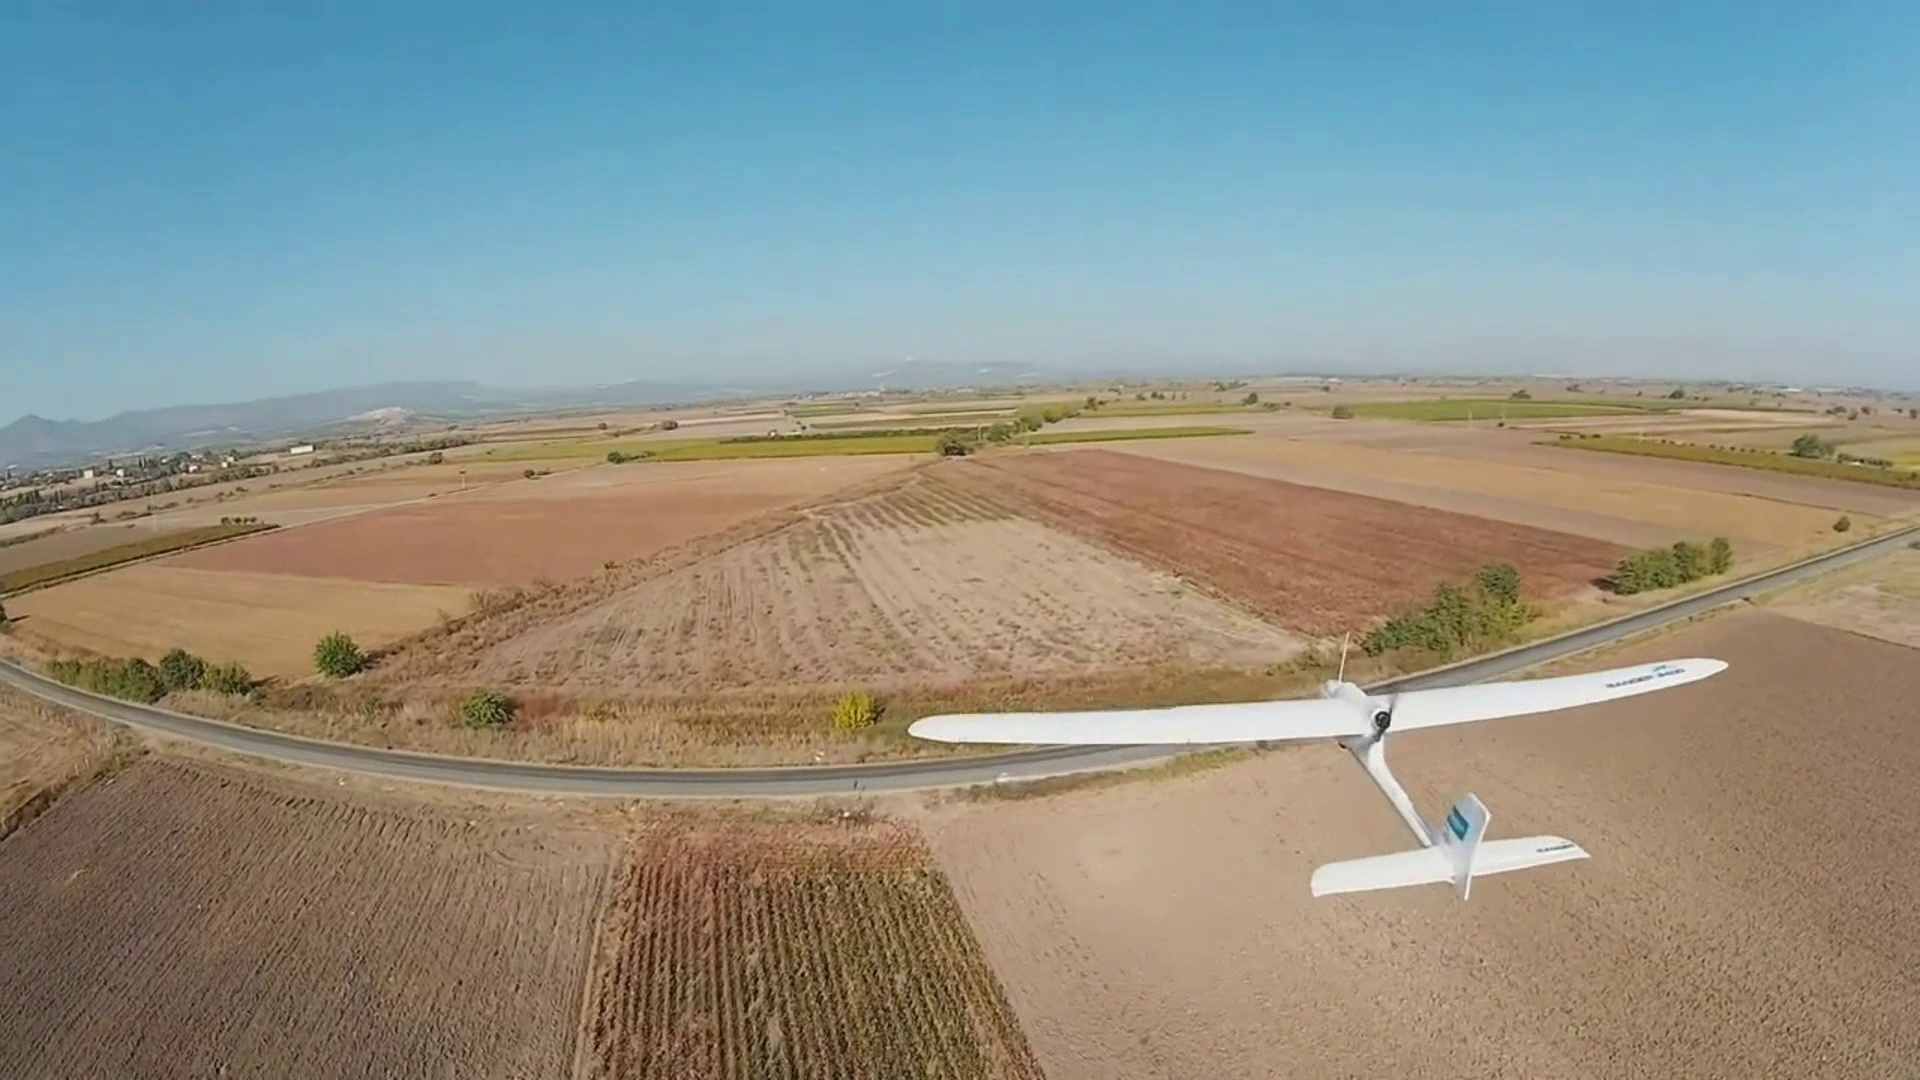airplane: (899, 505, 1914, 896), (906, 653, 1730, 897)
